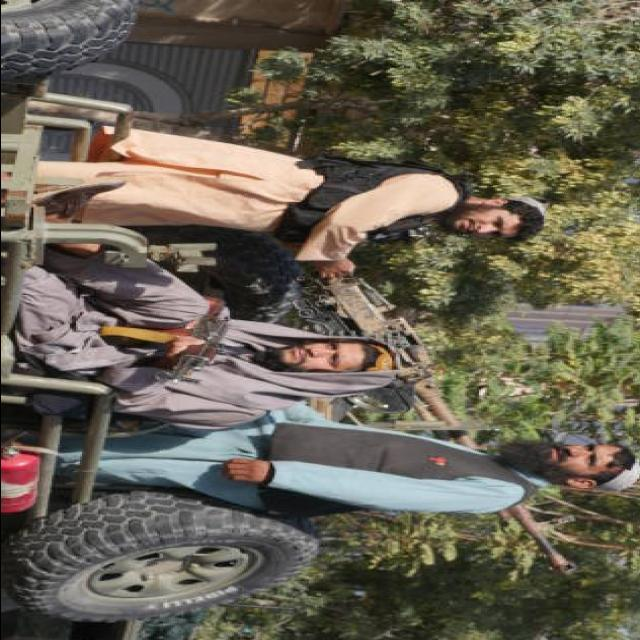civilian: (99, 403, 640, 516)
terrorist: (36, 126, 545, 275), (16, 243, 397, 428)
